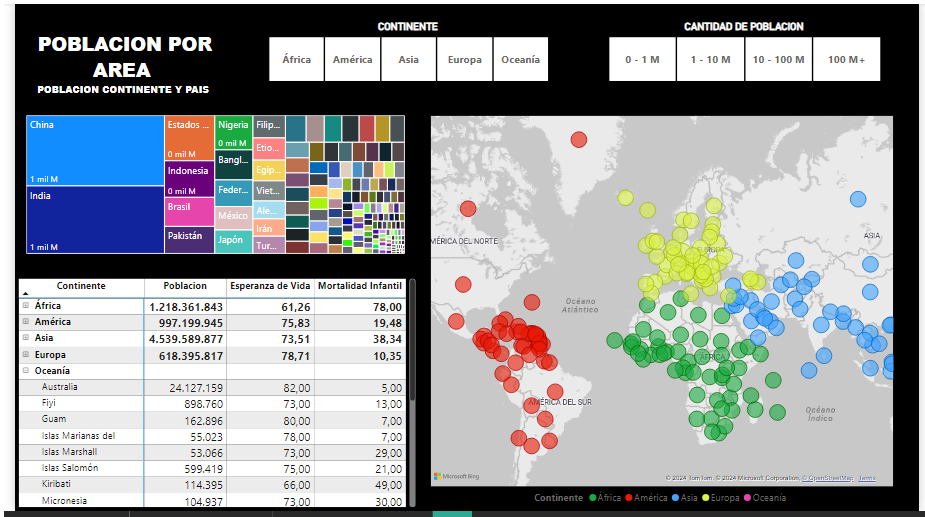

The dashboard page shown, as its layout file describes it:
{"tool":"powerbi","page":{"name":"Poblacion por area","canvas":[1280,720],"ordinal":0},"visuals":[{"type":"pivotTable","fields":{"Rows":["Paises.Continente","Paises.Pais"],"Values":["Sum(Population.Poblacion)","Avg(expectativa de vida.Expectativa de Vida)","Avg(mortalidad infantil.Mortalidad Infantil)"]},"box":[0,385.5,572.6,334.5],"z":0},{"type":"slicer","title":"CANTIDAD DE POBLACION","fields":{"Values":["Population.cantidad poblacion"]},"box":[816.4,25.5,433.7,92.1],"z":1000},{"type":"slicer","title":"CONTINENTE","fields":{"Values":["Paises.Continente"]},"box":[334.5,25.5,445,92.1],"z":2000},{"type":"treemap","fields":{"Group":["Paises.Pais"],"Values":["Sum(Population.Poblacion)"]},"box":[11.3,154.5,545.7,205.5],"z":3000},{"type":"map","fields":{"Category":["Paises.Pais"],"Series":["Paises.Continente"]},"box":[583.9,154.5,666.1,565.5],"z":4000},{"type":"textbox","box":[0,0,311,154.1],"z":5000}]}

Visuals, with their boxes in screenshot pixels (x1, y1, x2, y2), scaled from the page's 1280x720 canvas onto the 925x517 screenshot:
pivotTable - Paises.Continente x Paises.Pais: {"x1": 0, "y1": 277, "x2": 414, "y2": 516}
"CANTIDAD DE POBLACION" slicer: {"x1": 590, "y1": 18, "x2": 903, "y2": 84}
"CONTINENTE" slicer: {"x1": 242, "y1": 18, "x2": 563, "y2": 84}
treemap - Paises.Pais x Sum(Population.Poblacion): {"x1": 8, "y1": 111, "x2": 403, "y2": 258}
map - Paises.Pais x Paises.Continente: {"x1": 422, "y1": 111, "x2": 903, "y2": 516}
textbox: {"x1": 0, "y1": 0, "x2": 225, "y2": 111}
